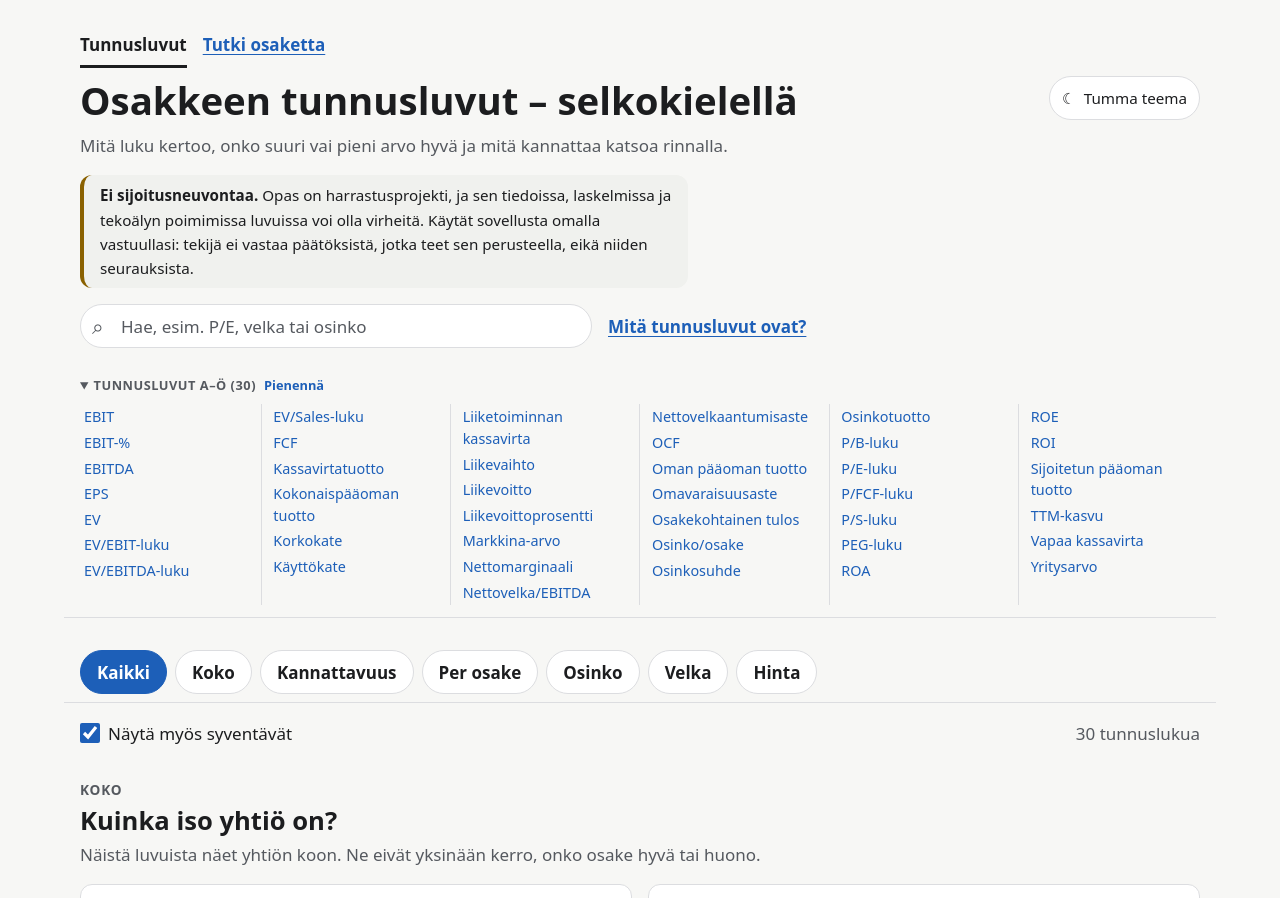
Test: Haku ja suodatus › ”velaton” löytää EV:n, ja haku tallentuu osoitteeseen
The image size is (1280, 898).
Type "velaton" into the search field named "Hae tunnuslukua".
click(336, 326); type("velaton")  # box [80,304,592,348]
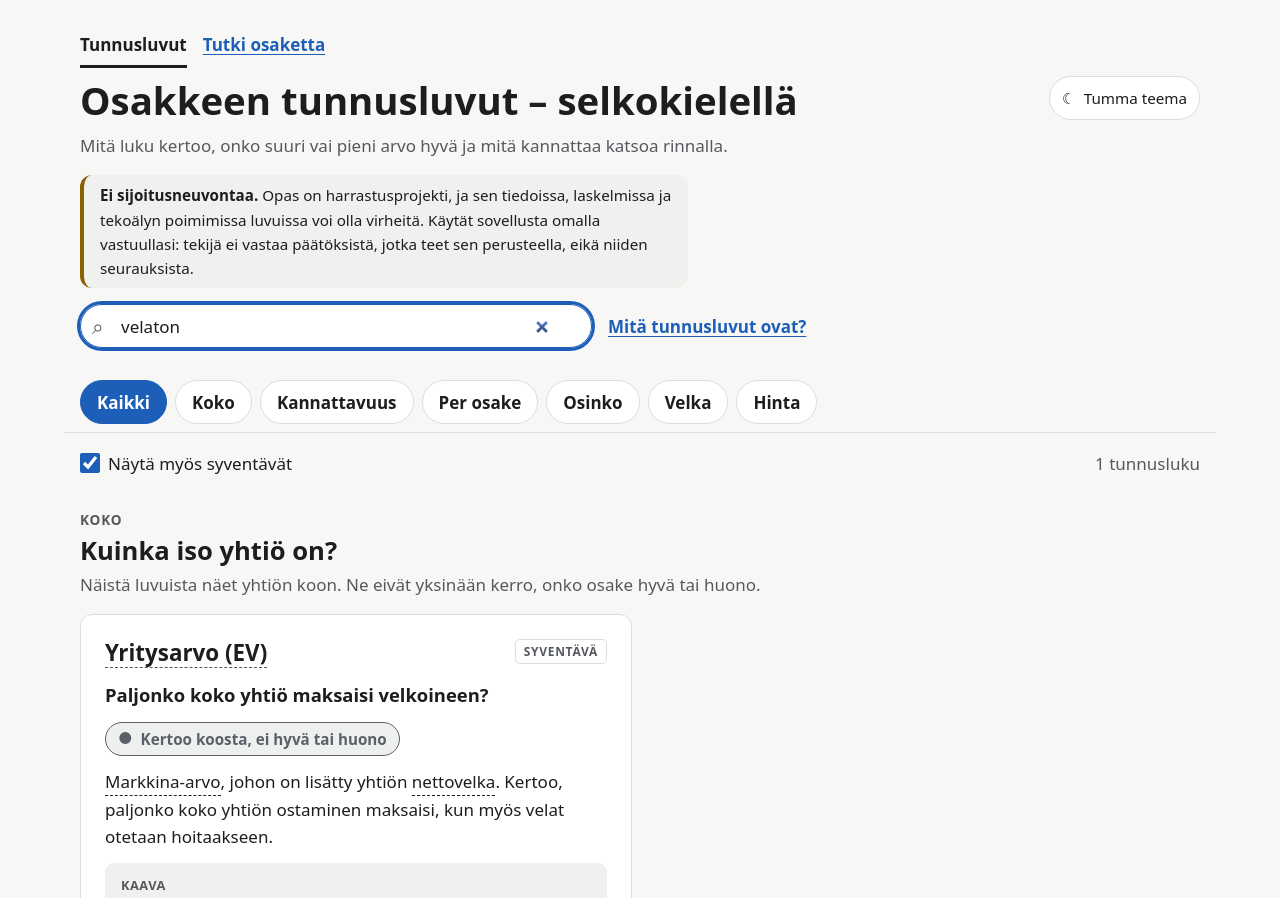
Expected: the message reads "1 tunnusluku", [1095,452,1200,475]
